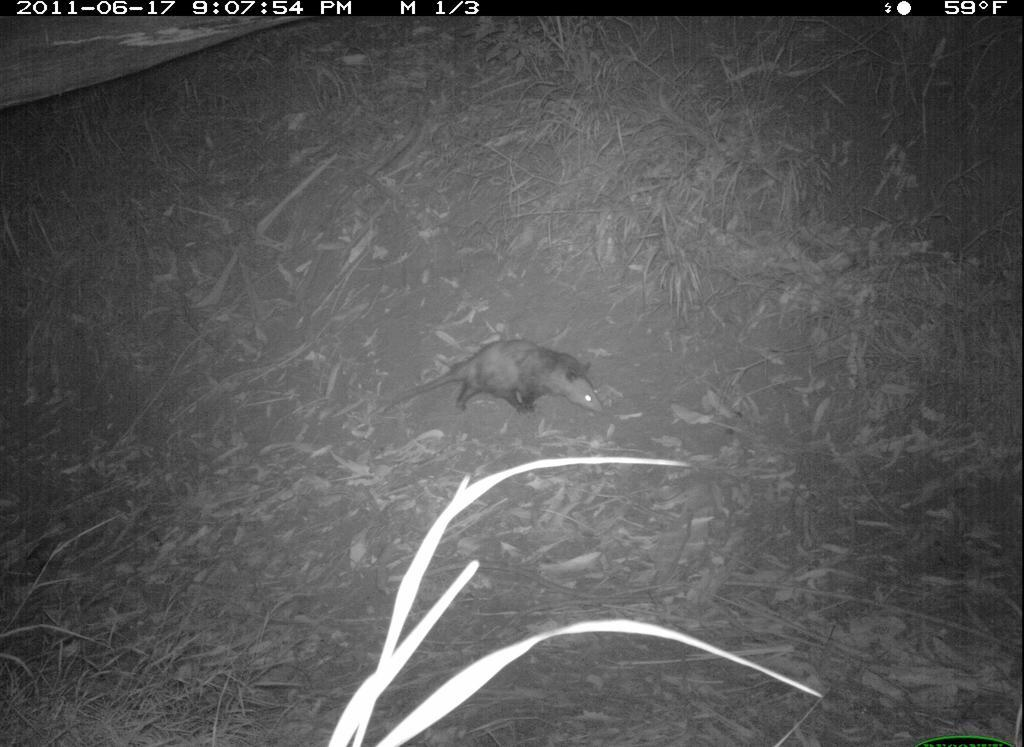opossum: (378, 331, 615, 437)
